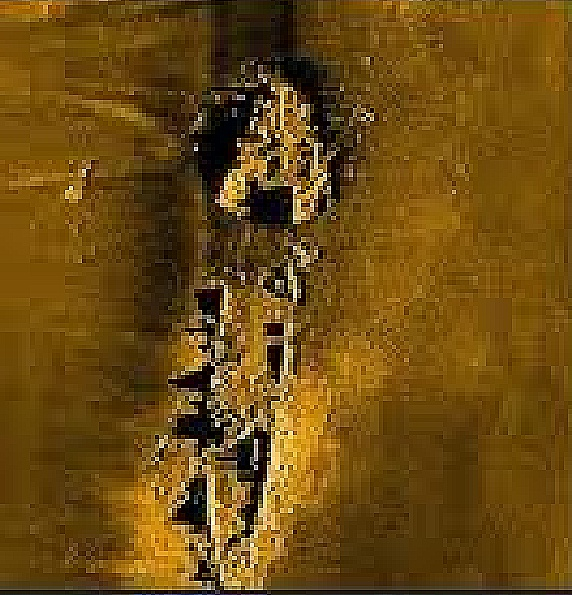ship: (196, 76, 335, 590)
